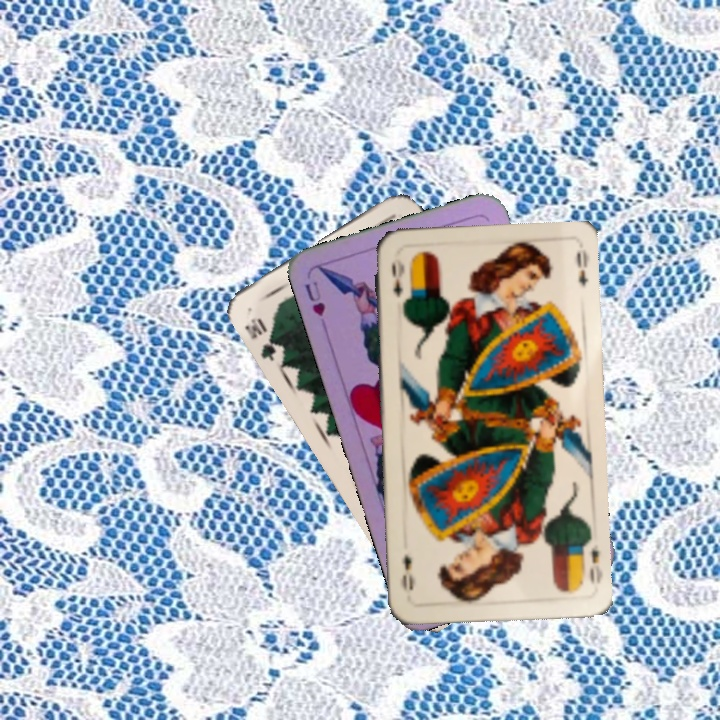EO: (585, 540, 605, 587), (387, 254, 406, 299)
G10: (240, 313, 283, 365)
HU: (300, 277, 328, 319)
